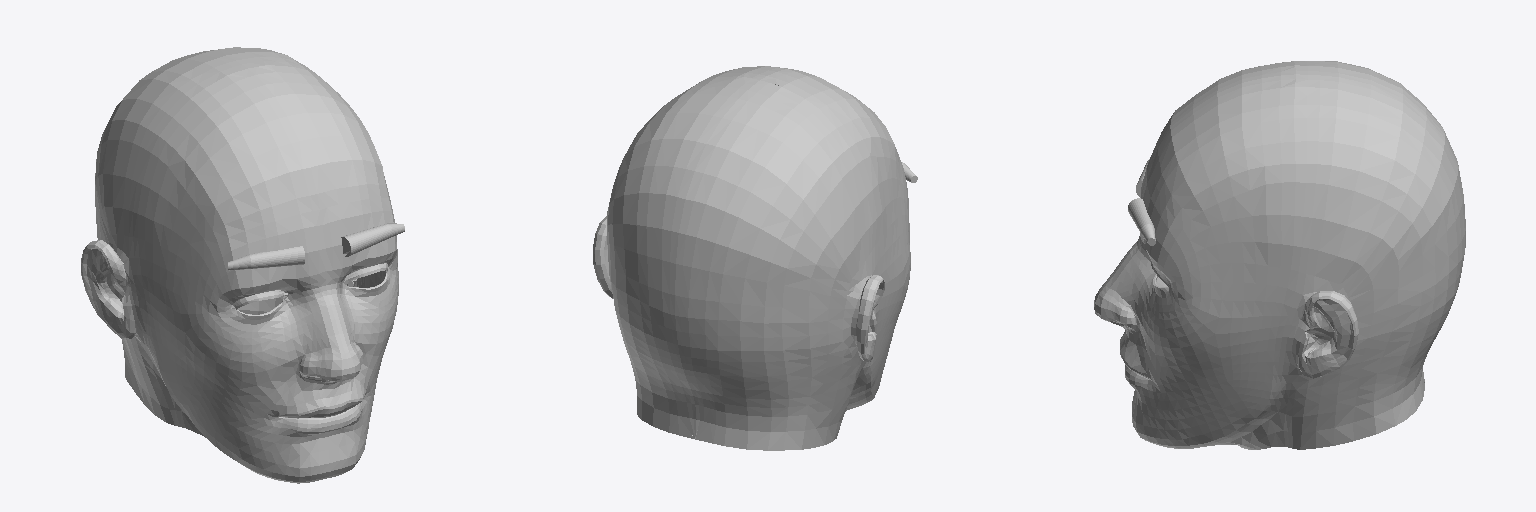
3 renders of one model, left to right at view 1: azimuth 30°, elevation 25°; view 2: azimuth 150°, elevation 25°; view 3: azimuth 270°, elevation 25°, orthographic.
Parts seen in each view (by area): view 1: male_head.obj, Cylinder, Cylinder.001; view 2: male_head.obj; view 3: male_head.obj, Cylinder.001.
Boxes of the visible parts, <box> form: male_head.obj: <box>81,47,398,483</box>; Cylinder: <box>228,246,304,270</box>; Cylinder.001: <box>341,223,404,256</box>; male_head.obj: <box>593,66,910,450</box>; male_head.obj: <box>1094,61,1465,449</box>; Cylinder.001: <box>1128,198,1155,245</box>.
Bounding box in the file's own units: 3.06 × 3.82 × 3.54.